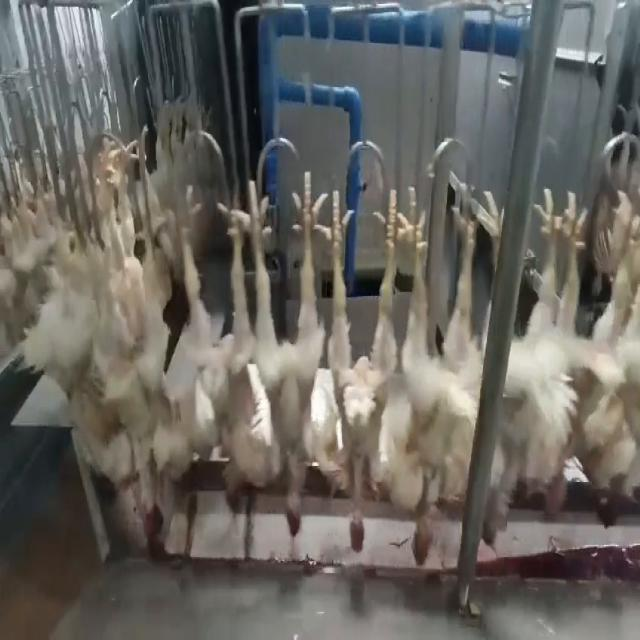chicken: (394, 171, 489, 569), (317, 174, 406, 558), (509, 177, 595, 535), (248, 173, 318, 540), (174, 191, 243, 512), (589, 192, 639, 531)
